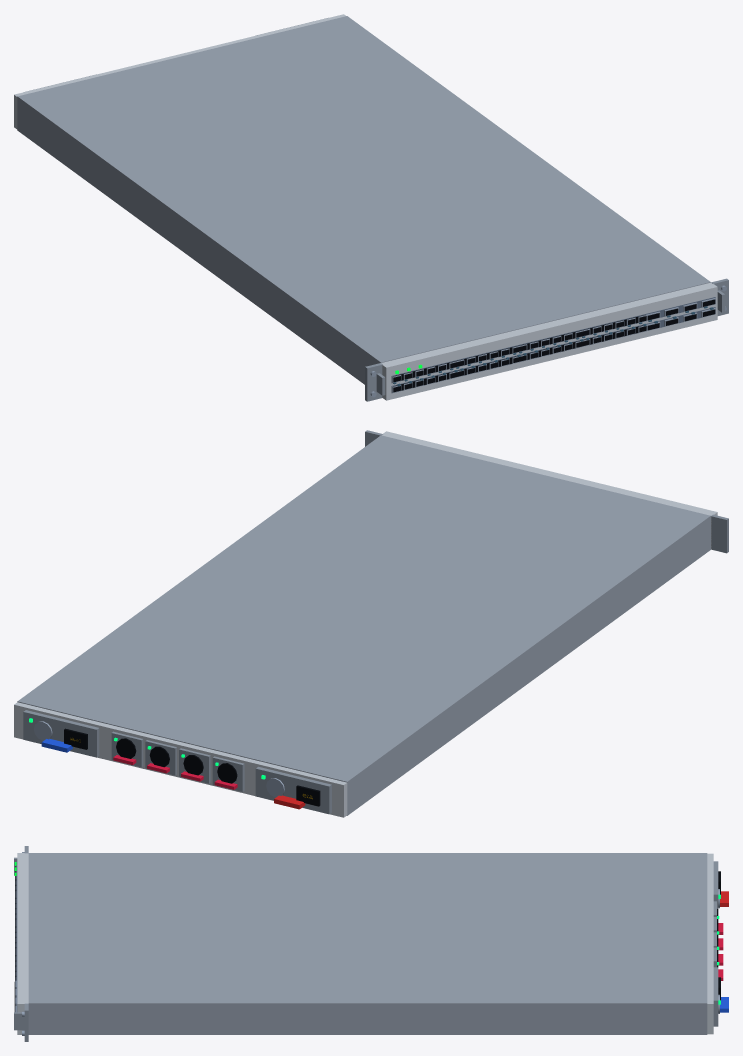
File: huawei_ce6800_family.glb
The picture shows the model from 3 angles, top to bottom: view 1: azimuth 30°, elevation 25°; view 2: azimuth 150°, elevation 25°; view 3: azimuth 270°, elevation 25°; orthographic projection. The views are drawn at different scales.
Parts seen in each view (by area): view 1: BATCH_MAT_CHASSIS_BODY, BATCH_MAT_FACEPLATE, BATCH_MAT_CAVITY_DARK, BATCH_MAT_PORT_SHIELD, BATCH_MAT_HW_BEZEL, BATCH_MAT_RACK_EAR; view 2: BATCH_MAT_CHASSIS_BODY, BATCH_MAT_FACEPLATE, BATCH_MAT_RACK_EAR, BATCH_MAT_CAVITY_DARK; view 3: BATCH_MAT_CHASSIS_BODY, BATCH_MAT_FACEPLATE, BATCH_MAT_RACK_EAR, BATCH_MAT_CAVITY_DARK, BATCH_MAT_PORT_SHIELD.
Part boxes in pixels (<box>): BATCH_MAT_CHASSIS_BODY: <box>17,16,710,384</box>; BATCH_MAT_FACEPLATE: <box>14,14,717,400</box>; BATCH_MAT_CAVITY_DARK: <box>393,299,715,392</box>; BATCH_MAT_PORT_SHIELD: <box>370,285,726,397</box>; BATCH_MAT_HW_BEZEL: <box>391,297,715,393</box>; BATCH_MAT_RACK_EAR: <box>25,17,728,401</box>; BATCH_MAT_CHASSIS_BODY: <box>17,435,710,815</box>; BATCH_MAT_FACEPLATE: <box>14,431,717,817</box>; BATCH_MAT_RACK_EAR: <box>23,430,728,814</box>; BATCH_MAT_CAVITY_DARK: <box>64,728,320,806</box>; BATCH_MAT_CHASSIS_BODY: <box>28,853,707,1034</box>; BATCH_MAT_FACEPLATE: <box>17,853,713,1034</box>; BATCH_MAT_RACK_EAR: <box>14,846,718,1041</box>; BATCH_MAT_CAVITY_DARK: <box>14,866,720,1011</box>; BATCH_MAT_PORT_SHIELD: <box>15,852,719,1035</box>.
Bounding box in the file's own units: 0.4826 × 0.0435 × 0.885.
